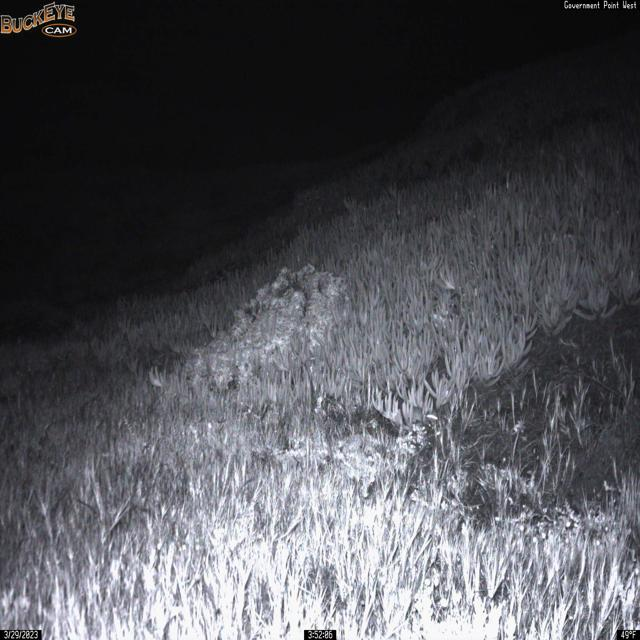rodent: (406, 400, 447, 426)
